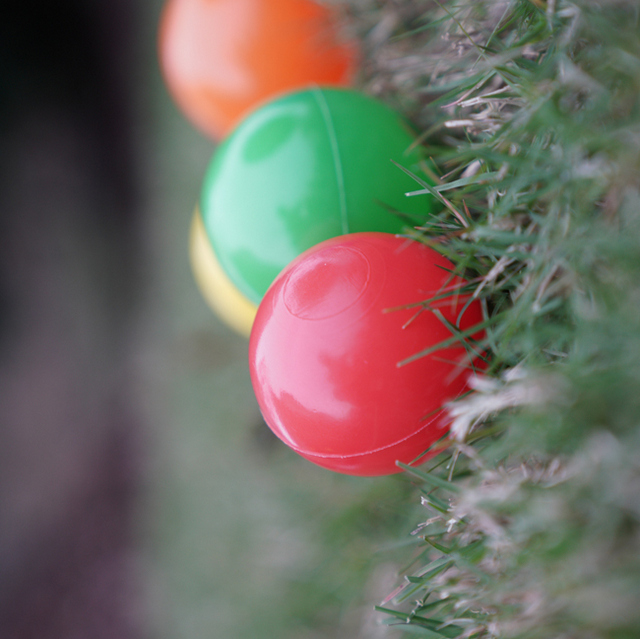Ball: (251, 233, 497, 475)
